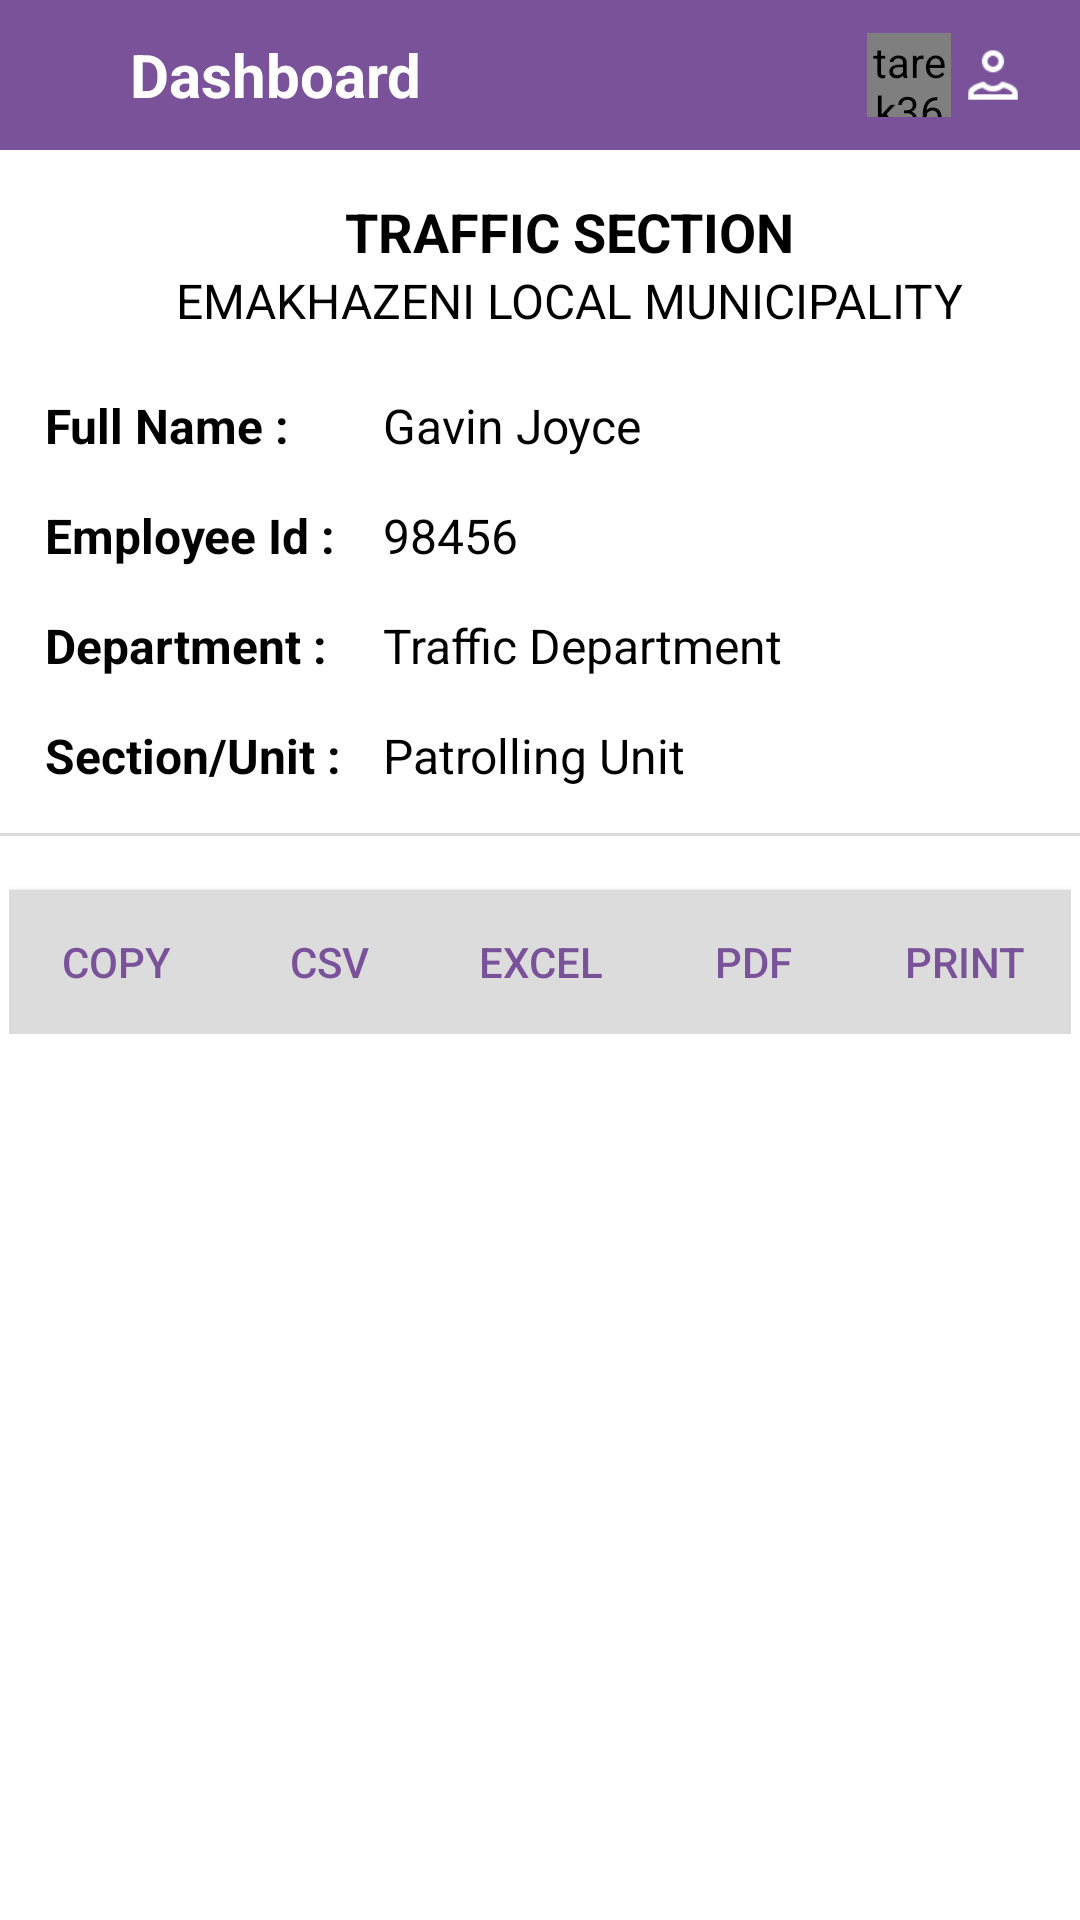

Named icons in this screenshot (1080 × 1920) and their bounding boxes, [left=x1, top=y1, right=x2, bottom=y2]:
person: [left=968, top=50, right=1018, bottom=100]
